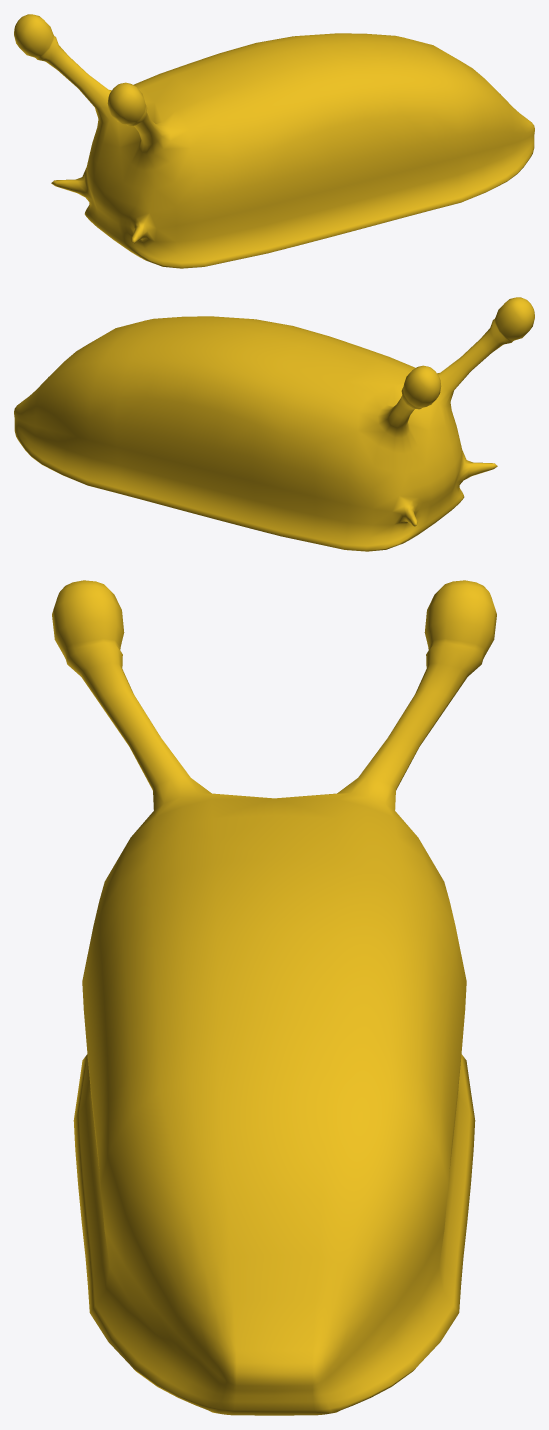
The model's file is FixedSluggula.fbx.
3 renders of one model, top to bottom at view 1: azimuth 30°, elevation 25°; view 2: azimuth 150°, elevation 25°; view 3: azimuth 270°, elevation 25°, orthographic. The views are drawn at different scales.
Parts seen in each view (by area): view 1: Cube.003; view 2: Cube.003; view 3: Cube.003.
Part boxes in pixels (x1=…): Cube.003: x1=14, y1=14, x2=534, y2=268; Cube.003: x1=14, y1=297, x2=534, y2=551; Cube.003: x1=52, y1=580, x2=496, y2=1415.
Bounding box in the file's own units: 250 × 105 × 104.
